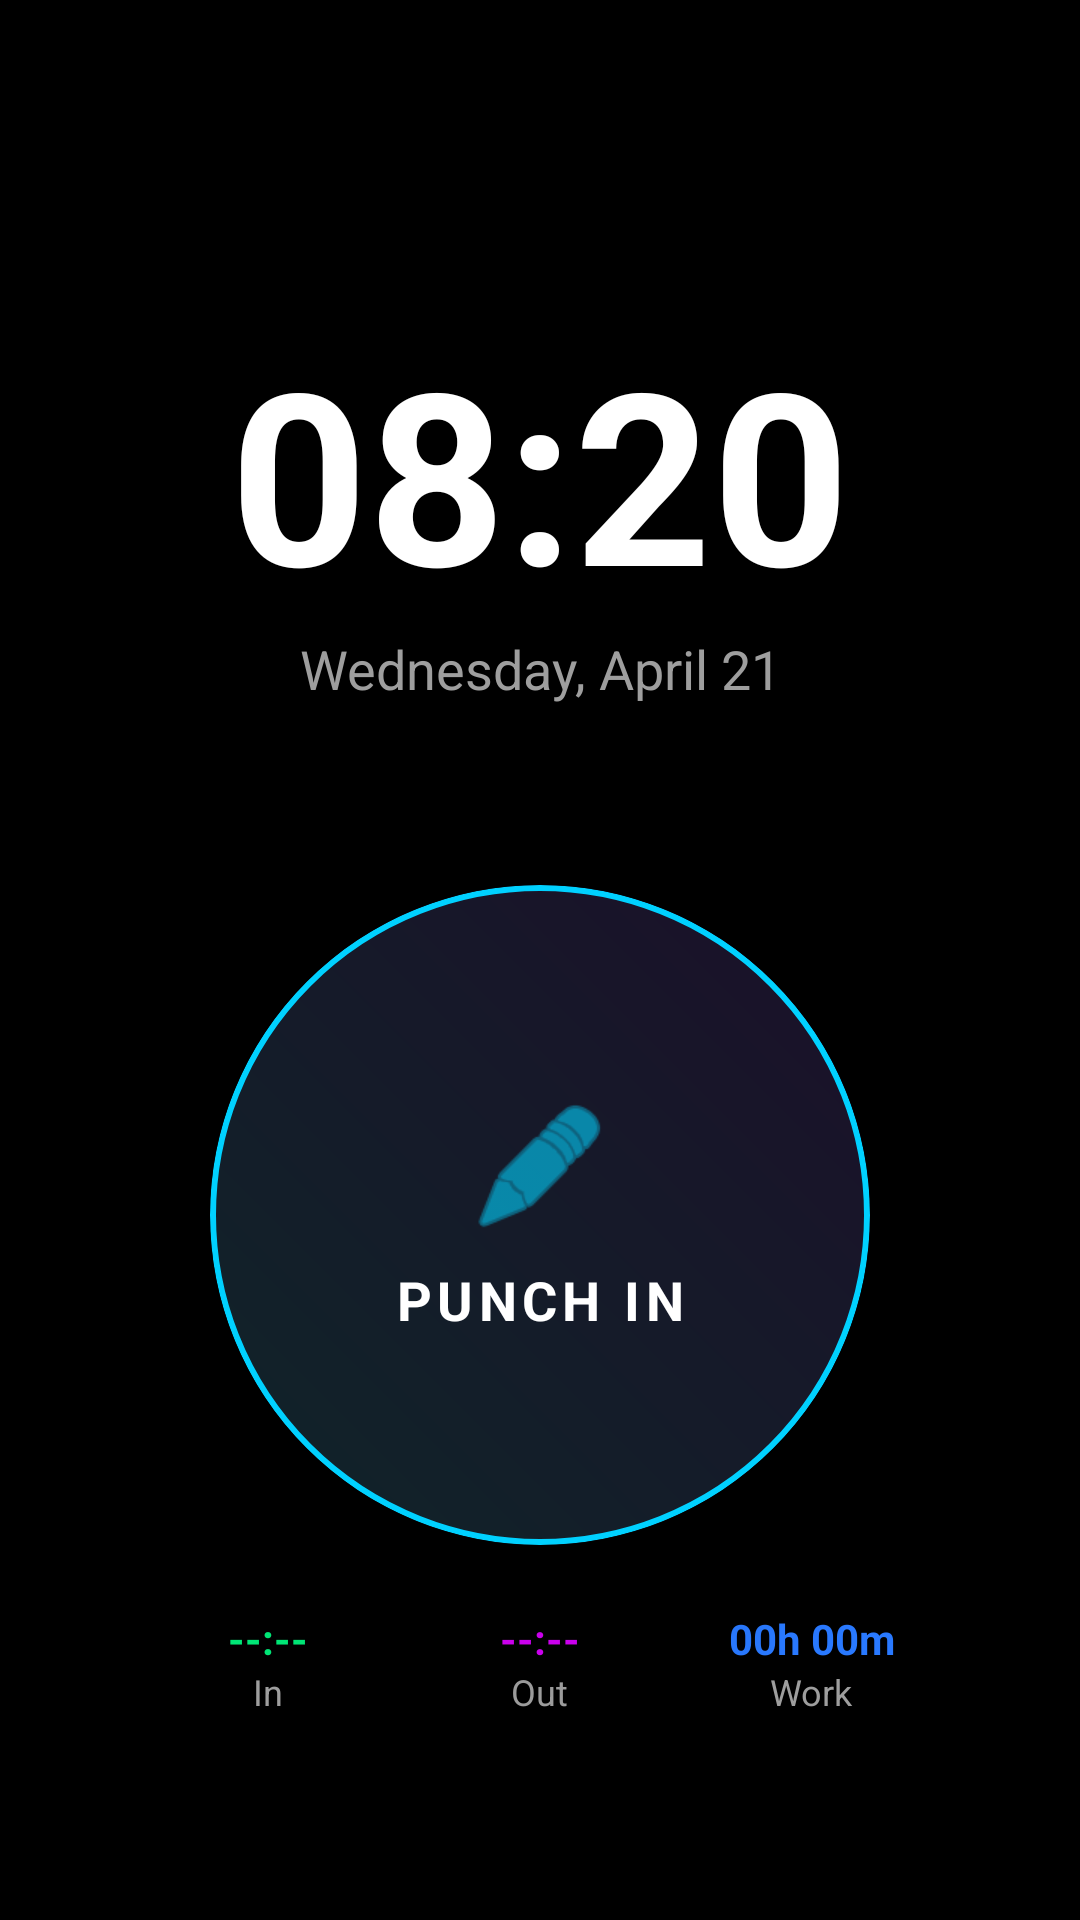

Point at icon controls on the screen. Image size 1080px×1920px, points as [x,y].
edit: [539,1166]
